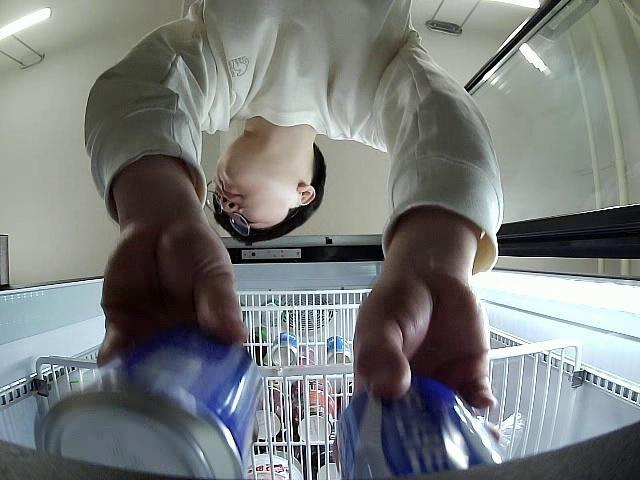13_pocariSweat: (37, 323, 264, 480), (336, 376, 505, 478)
